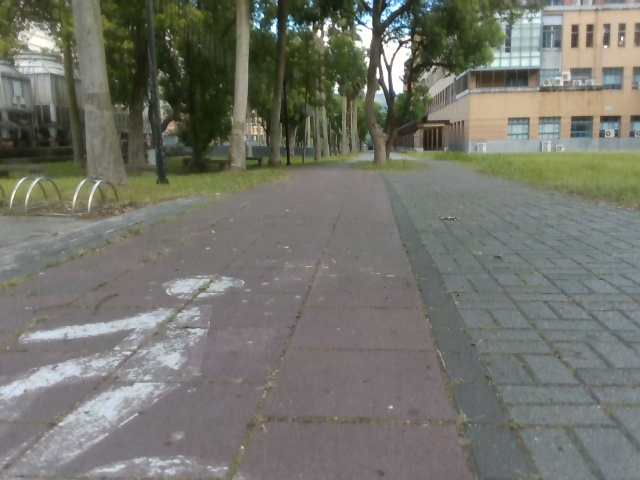grass: (0, 0, 549, 183), (0, 151, 639, 219)
road: (0, 152, 639, 479)
sidewalk: (0, 209, 165, 283)
